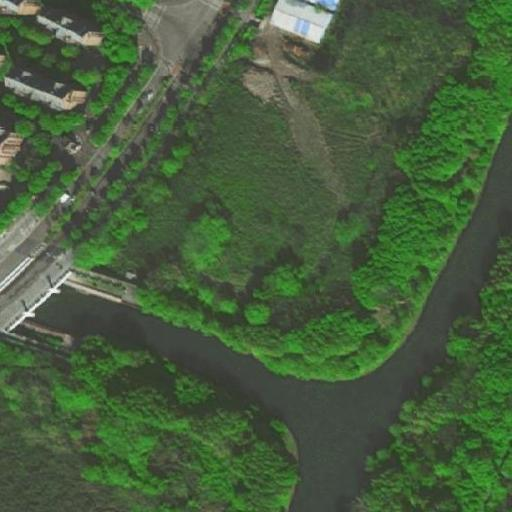building: (9, 66, 79, 112), (38, 11, 97, 48)
